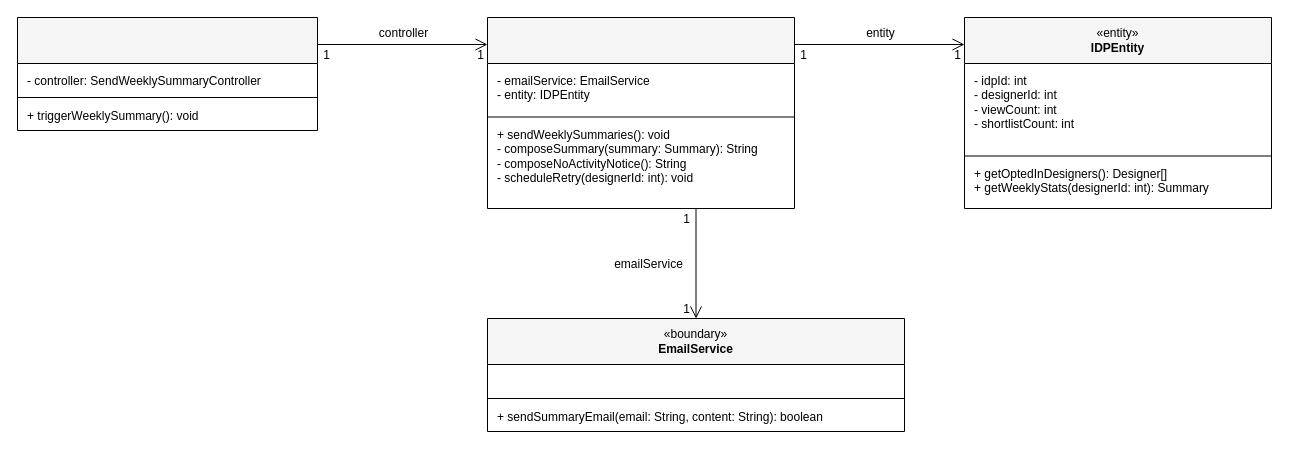
Image size: 1289x452. Some labels were removed from this diagram. Each missing label, with the box of its shape:
«boundary» WeeklySummaryScheduler: (16, 16, 318, 130)
«control» SendWeeklySummaryController: (486, 16, 794, 208)
